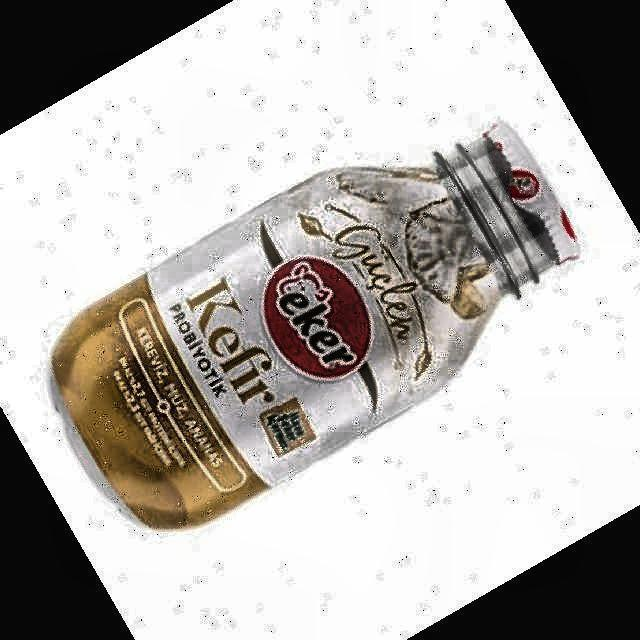plastic: (51, 124, 579, 528)
